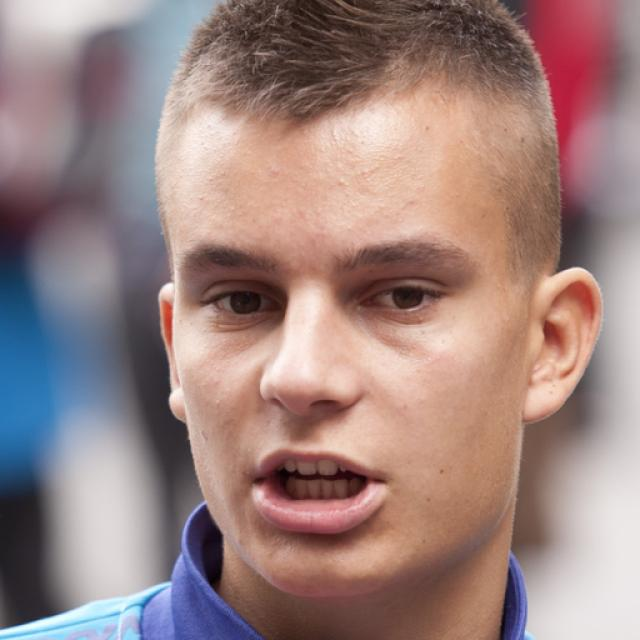Acne: (322, 169, 354, 195), (347, 162, 387, 181), (392, 194, 417, 217)
